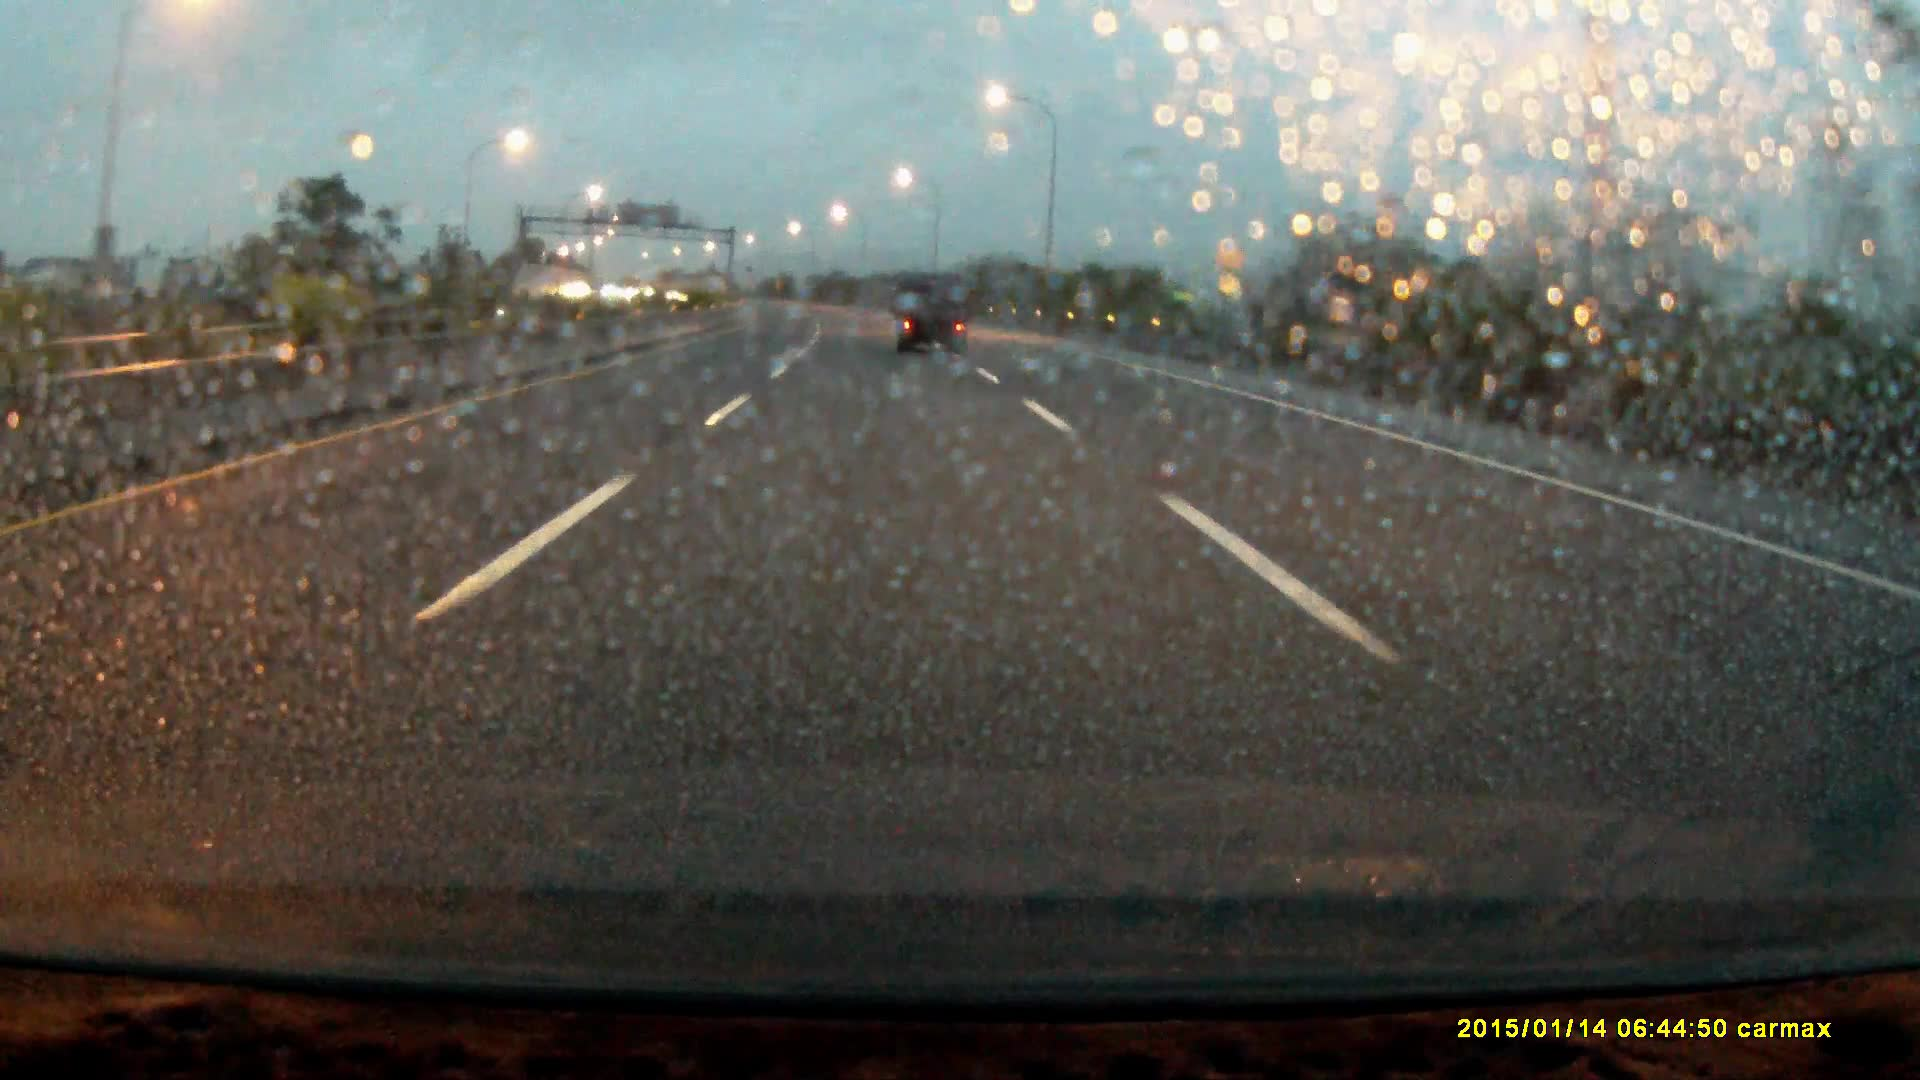vehicle: (897, 272, 971, 355)
